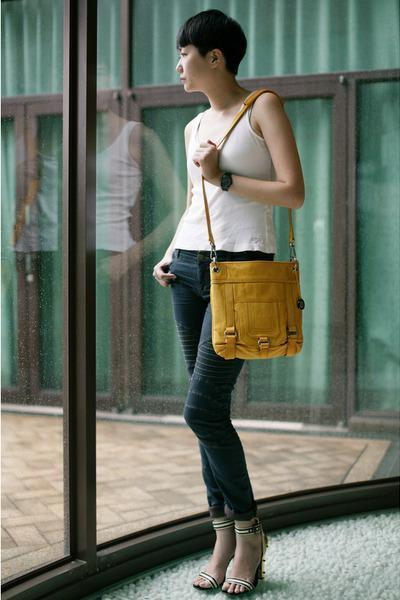bag: (206, 112, 304, 359)
pants: (161, 228, 274, 515)
shirt: (166, 108, 275, 251)
shoe: (187, 552, 251, 599)
